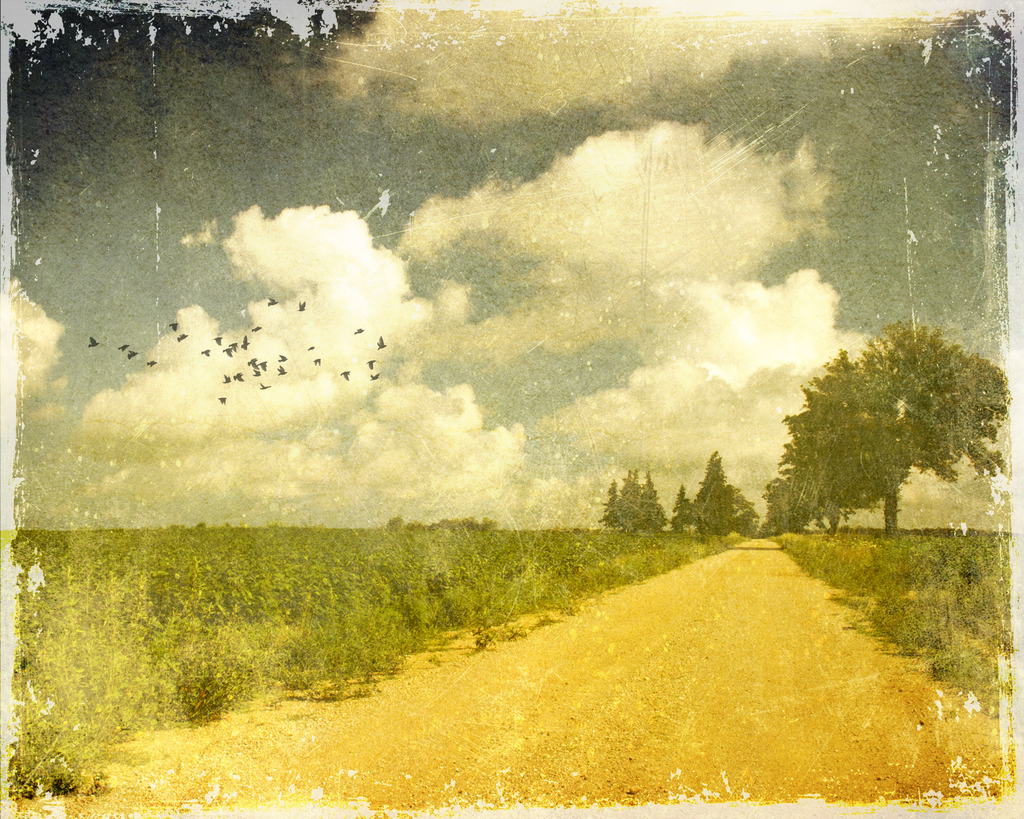Tree: (597, 315, 1012, 539)
